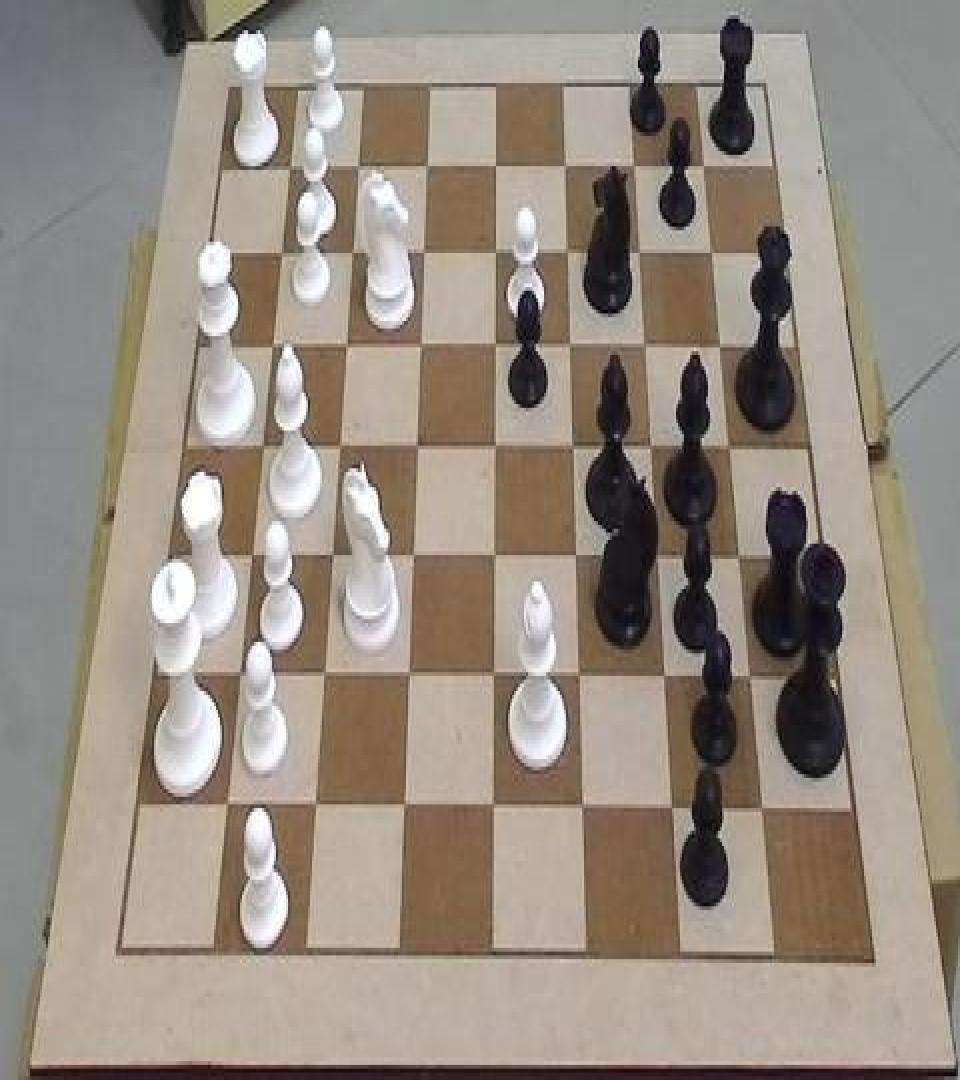xcorner: (694, 147, 714, 185), (624, 147, 644, 185), (554, 147, 574, 185), (485, 147, 505, 185), (416, 147, 436, 185), (347, 147, 367, 185), (278, 147, 298, 185), (702, 234, 722, 272), (629, 234, 649, 272), (557, 234, 577, 272), (485, 234, 505, 272), (413, 232, 433, 270), (341, 232, 361, 270), (270, 232, 290, 270), (711, 326, 731, 364), (635, 326, 655, 364), (560, 326, 580, 364), (485, 326, 505, 364), (410, 326, 430, 364), (335, 326, 355, 364), (261, 324, 281, 362), (720, 428, 740, 466), (641, 428, 661, 466), (563, 428, 583, 466), (485, 426, 505, 464), (407, 426, 427, 464), (329, 426, 349, 464), (251, 426, 271, 464), (730, 540, 750, 578), (648, 538, 668, 576), (566, 538, 586, 576), (484, 538, 504, 576), (403, 536, 423, 574), (322, 536, 342, 574), (241, 534, 261, 572), (741, 660, 761, 698), (655, 659, 675, 697), (570, 659, 590, 697), (484, 657, 504, 695), (399, 657, 419, 695), (314, 655, 334, 693), (230, 655, 250, 693), (754, 793, 774, 831), (663, 791, 683, 829), (574, 789, 594, 827), (484, 789, 504, 827), (395, 787, 415, 825), (306, 786, 326, 824), (217, 786, 237, 824)
